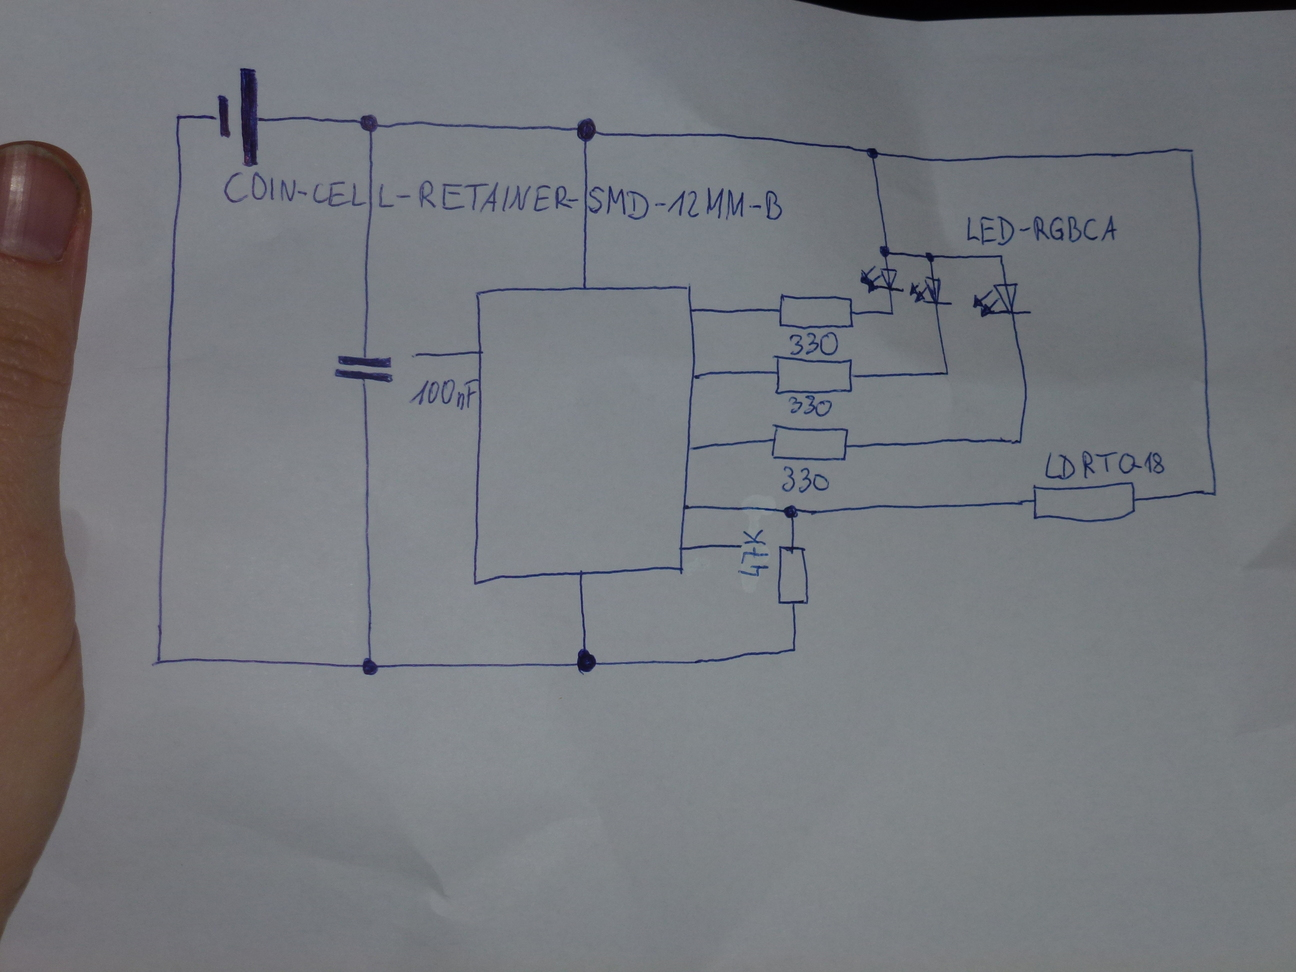capacitor.unpolarized: (331, 351, 399, 390)
diode.light_emitting: (971, 279, 1035, 320), (908, 273, 958, 309), (858, 262, 907, 296)
integrated_circuit: (468, 277, 700, 591)
junction: (567, 113, 604, 149), (354, 109, 384, 138), (572, 647, 600, 676), (358, 653, 383, 679), (781, 502, 805, 521), (150, 653, 166, 671), (864, 145, 881, 161), (1012, 432, 1027, 449), (172, 109, 187, 125), (877, 244, 893, 257), (923, 249, 937, 262), (1184, 144, 1198, 157), (1206, 487, 1220, 500), (787, 642, 799, 657), (886, 306, 897, 318), (995, 251, 1006, 261), (941, 368, 952, 377)
resistor: (1028, 479, 1139, 525), (771, 354, 852, 397), (769, 422, 850, 464), (778, 290, 853, 329), (774, 543, 812, 607)
text: (219, 169, 788, 225), (963, 211, 1119, 248), (1043, 449, 1167, 482), (409, 375, 480, 410), (738, 530, 770, 580), (786, 330, 840, 359), (778, 466, 830, 495), (785, 393, 833, 420)
voltage.dc: (213, 64, 266, 169)
